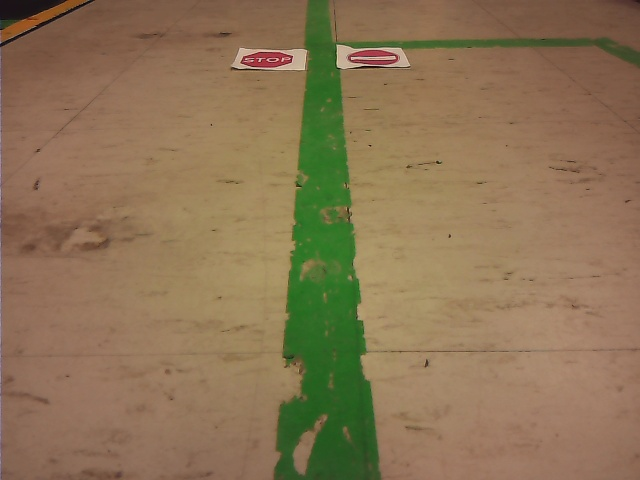NO ENTRY: (347, 49, 399, 65)
STOP: (238, 51, 293, 68)
